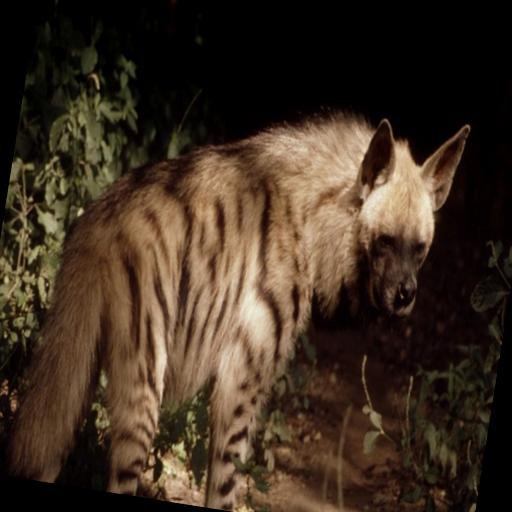hyenas: (0, 47, 495, 512)
